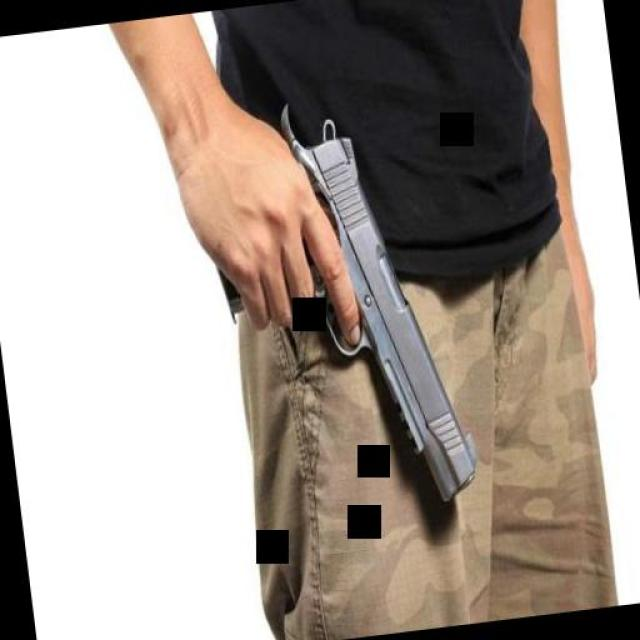gun: (195, 71, 477, 520)
